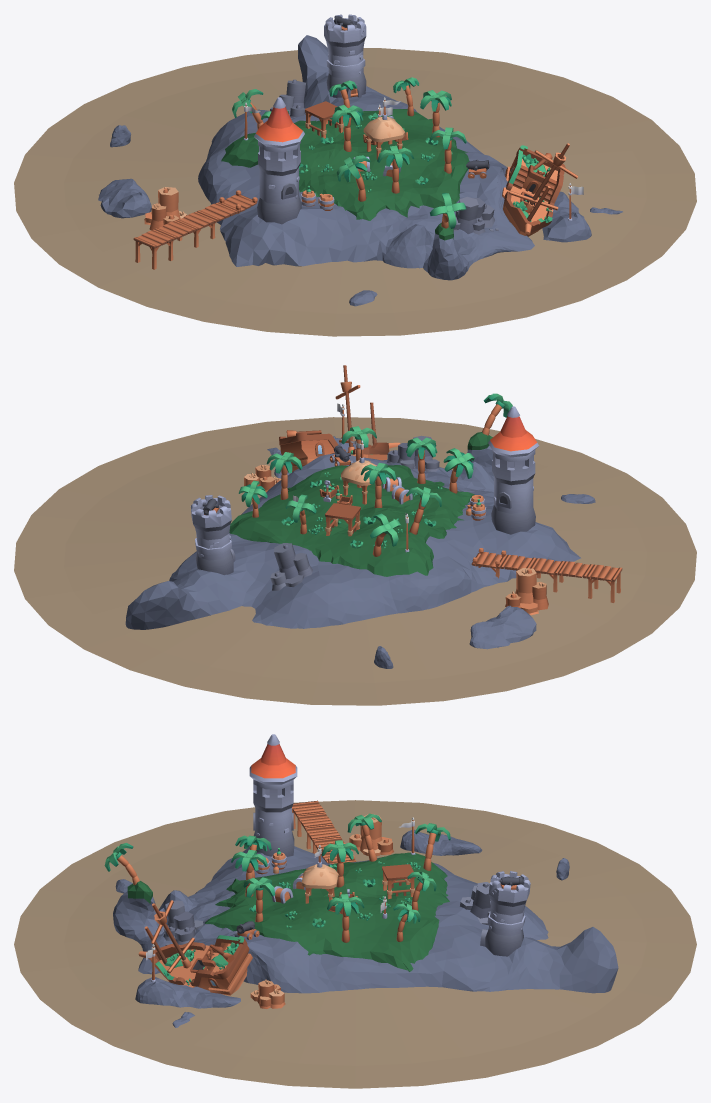
File: island.glb
3 views of the same model, one above another, from view 1: azimuth 30°, elevation 25°; view 2: azimuth 150°, elevation 25°; view 3: azimuth 270°, elevation 25° (orthographic).
Visible parts, largest first — view 1: Circle, LandMass_81, Main Green_82, tower-complete-large.001, ship-wreck, tower-complete-small.001, Rock.004_117, Rock.001_114, rocks-a.001, rocks-sand-b.001, structure-roof.001, structure-platform.001 (+9 smaller); view 2: Circle, LandMass_81, Main Green_82, tower-complete-large.001, tower-complete-small.001, ship-wreck, Rock.004_117, rocks-sand-b.001, rocks-b.001, rocks-a.001, structure-fence-sides.001, structure-platform.001 (+13 smaller); view 3: Circle, LandMass_81, Main Green_82, tower-complete-large.001, ship-wreck, tower-complete-small.001, Rock.001_114, Rock.004_117, rocks-a.001, structure-roof.001, rocks-sand-b.001, structure-fence-sides.001 (+8 smaller).
Boxes of the visible parts, x1,y1,x2,y2 form: Circle: (14,48,696,336); LandMass_81: (198,35,534,280); Main Green_82: (221,109,469,220); tower-complete-large.001: (254,97,304,224); ship-wreck: (502,143,569,236); tower-complete-small.001: (324,14,366,97); Rock.004_117: (98,178,151,218); Rock.001_114: (542,191,591,242); rocks-a.001: (448,196,498,234); rocks-sand-b.001: (144,187,186,230); structure-roof.001: (363,116,405,159); structure-platform.001: (133,229,174,269); Circle: (14,417,696,705); LandMass_81: (125,445,580,629); Main Green_82: (229,465,474,576); tower-complete-large.001: (488,406,539,534); tower-complete-small.001: (190,495,235,575); ship-wreck: (279,365,400,471); Rock.004_117: (469,605,536,649); rocks-sand-b.001: (505,568,548,615); rocks-b.001: (270,543,312,590); rocks-a.001: (387,435,439,471); structure-fence-sides.001: (325,503,360,536); structure-platform.001: (586,564,622,602); Circle: (14,800,696,1088); LandMass_81: (113,846,618,993); Main Green_82: (205,852,449,971); tower-complete-large.001: (249,734,297,856); ship-wreck: (138,903,252,995); tower-complete-small.001: (480,871,530,956); Rock.001_114: (135,977,240,1008); Rock.004_117: (400,829,482,855); rocks-a.001: (163,900,203,945); structure-roof.001: (301,864,339,903); rocks-sand-b.001: (349,813,393,856); structure-fence-sides.001: (382,864,415,899).
Size of the model in its own units: 58.74 by 15.75 by 58.74.
61 materials, 60 textured.
